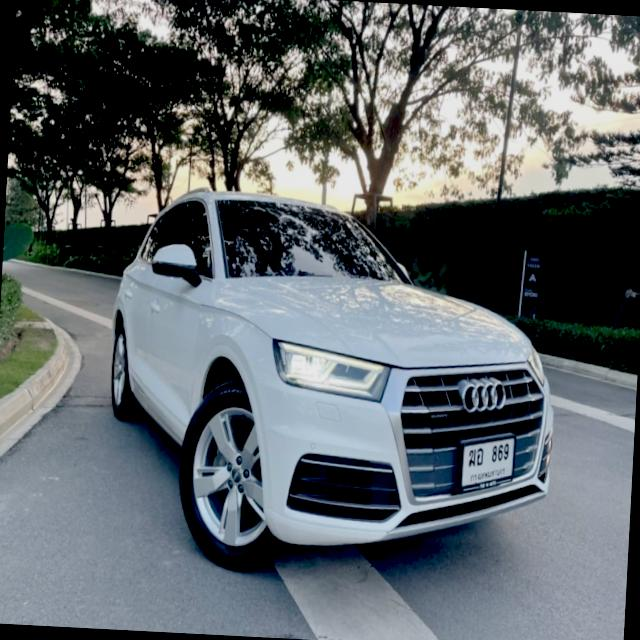license_plate: (452, 428, 520, 503)
